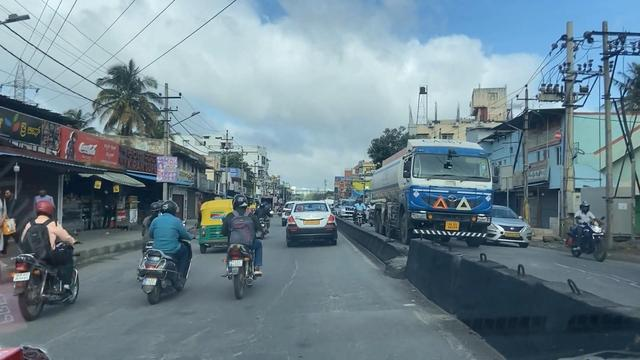LMV: (143, 202, 191, 303), (227, 194, 255, 298), (282, 198, 337, 250), (249, 200, 268, 242)
RoadDamages: (164, 322, 264, 359), (282, 259, 300, 291), (323, 276, 334, 295)
